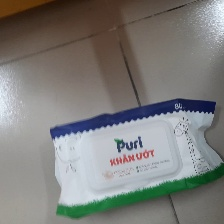Puri Trang: (47, 98, 224, 221)
